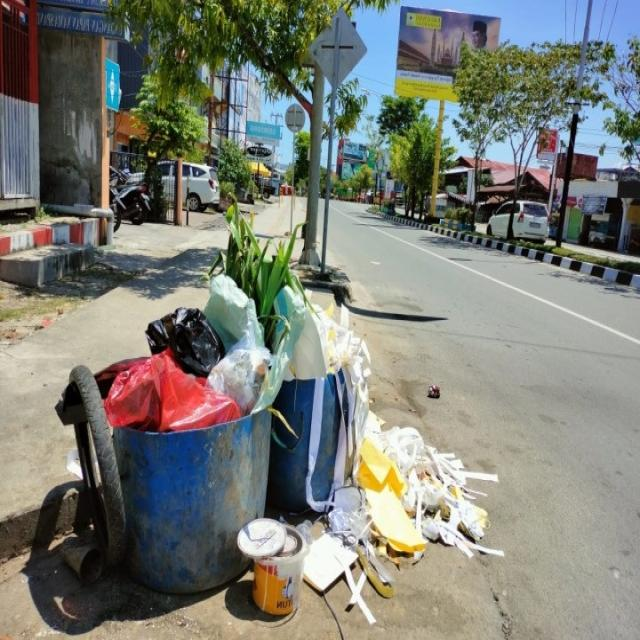sampah-detection: (307, 392, 507, 622), (106, 269, 284, 434), (283, 280, 378, 422)
